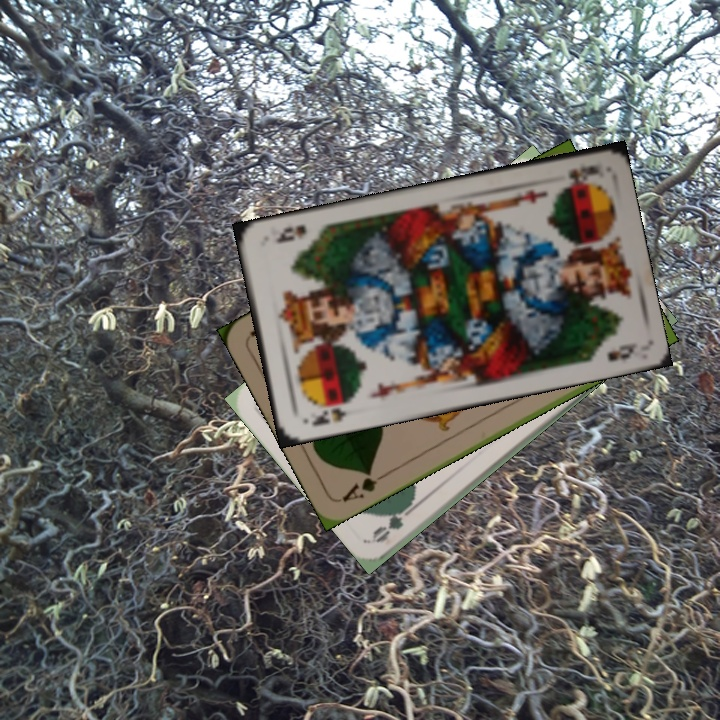GA: (338, 465, 391, 505)
GO: (368, 496, 421, 545)
SK: (299, 396, 354, 429), (565, 161, 602, 187)
